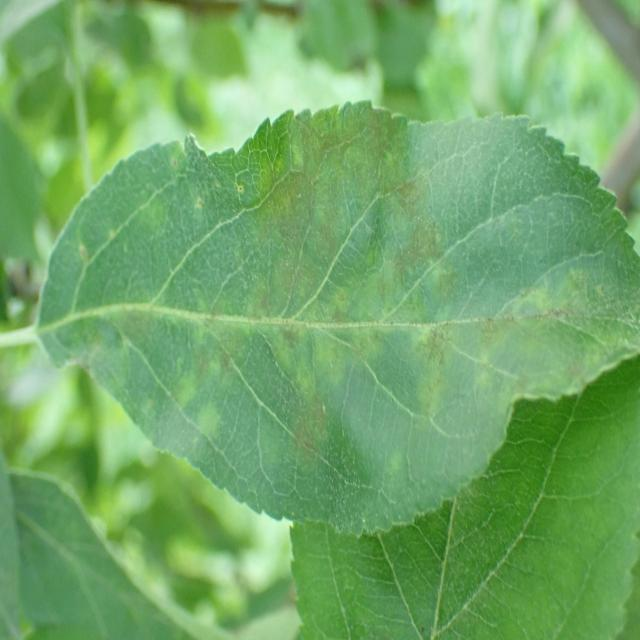scab: (56, 101, 622, 505)
